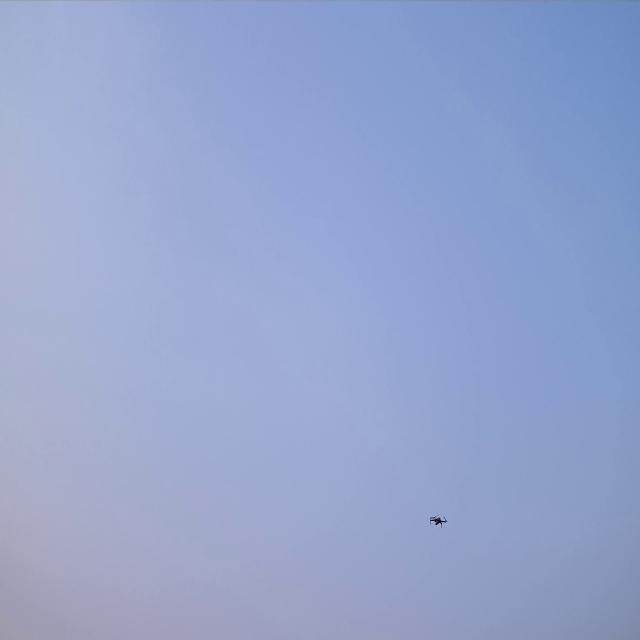UAV: (430, 516, 446, 525)
